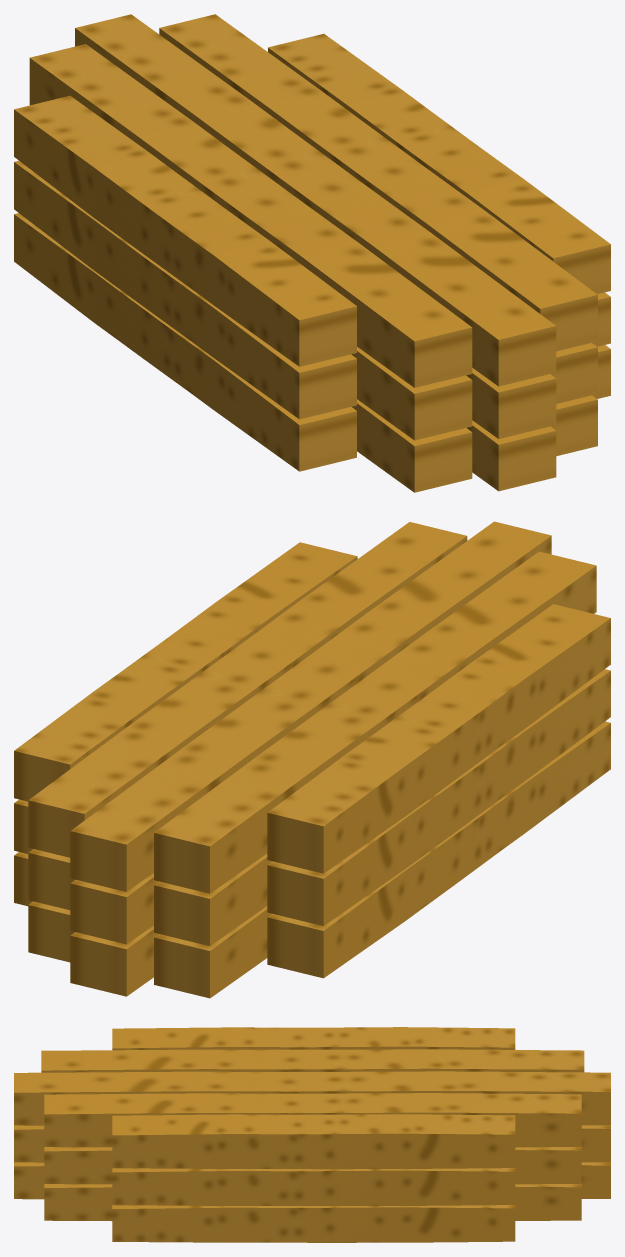
Rendered from PotatoReturnKizarmis.fbx.
3 views of the same model, one above another, from view 1: azimuth 30°, elevation 25°; view 2: azimuth 150°, elevation 25°; view 3: azimuth 270°, elevation 25° (orthographic). The views are drawn at different scales.
Visible parts, largest first — view 1: Cube.063, Cube.060, Cube.059, Cube.061, Cube.062, Cube.068, Cube.073, Cube.064, Cube.069, Cube.065, Cube.070, Cube.066 (+3 smaller); view 2: Cube.063, Cube.060, Cube.059, Cube.061, Cube.062, Cube.068, Cube.073, Cube.064, Cube.069, Cube.065, Cube.070, Cube.066 (+3 smaller); view 3: Cube.062, Cube.061, Cube.060, Cube.067, Cube.072, Cube.059, Cube.063, Cube.066, Cube.071, Cube.065, Cube.070.
Boxes of the visible parts, box(x1,y1,x2,y2) form: Cube.063: box(14, 95, 356, 366); Cube.060: box(75, 14, 556, 386); Cube.059: box(29, 44, 472, 387); Cube.061: box(159, 14, 597, 351); Cube.062: box(268, 33, 610, 294); Cube.068: box(14, 160, 356, 419); Cube.073: box(14, 213, 356, 471); Cube.064: box(351, 347, 472, 440); Cube.069: box(351, 399, 472, 492); Cube.065: box(466, 368, 556, 438); Cube.070: box(467, 420, 556, 491); Cube.066: box(550, 343, 597, 403); Cube.063: box(267, 604, 610, 873); Cube.060: box(70, 521, 551, 891); Cube.059: box(154, 551, 596, 893); Cube.061: box(28, 522, 467, 857); Cube.062: box(14, 542, 357, 801); Cube.068: box(267, 669, 610, 925); Cube.073: box(267, 721, 610, 978); Cube.064: box(154, 853, 271, 946); Cube.069: box(154, 906, 271, 998); Cube.065: box(70, 873, 158, 944); Cube.070: box(70, 925, 158, 996); Cube.066: box(28, 849, 74, 910); Cube.062: box(112, 1114, 515, 1169); Cube.061: box(44, 1093, 581, 1147); Cube.060: box(14, 1071, 610, 1125); Cube.067: box(112, 1168, 515, 1206); Cube.072: box(112, 1205, 515, 1242); Cube.059: box(41, 1049, 584, 1072); Cube.063: box(112, 1027, 515, 1050); Cube.066: box(44, 1147, 581, 1184); Cube.071: box(44, 1184, 581, 1221); Cube.065: box(14, 1125, 610, 1162); Cube.070: box(14, 1162, 610, 1199).
Bounding box in the file's own units: 81.89 × 39.01 × 193.
